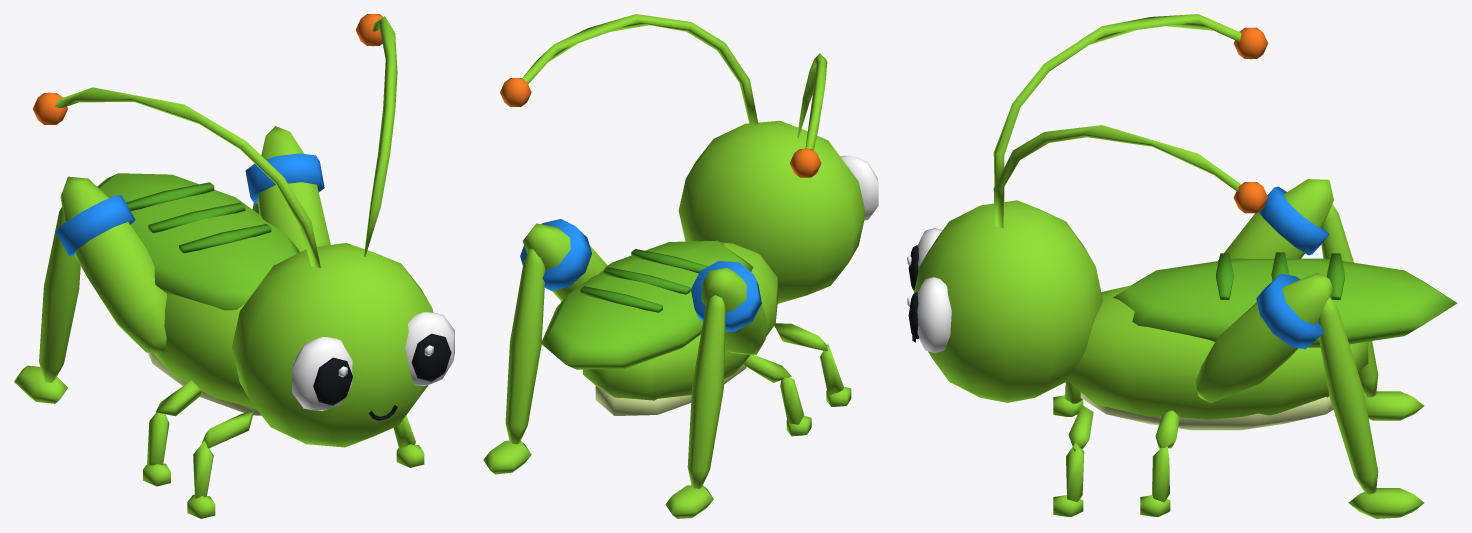
Rendered from compagnon_sauterelle.fbx.
3 views of the same model, side by side, from view 1: azimuth 30°, elevation 25°; view 2: azimuth 150°, elevation 25°; view 3: azimuth 270°, elevation 25° (orthographic). The views are drawn at different scales.
Visible parts, largest first — view 1: compagnon_sauterelle_Vert, compagnon_sauterelle_Elytres, compagnon_sauterelle_Bandeaux, compagnon_sauterelle_Yeux, compagnon_sauterelle_Rayures, compagnon_sauterelle_Pupilles, compagnon_sauterelle_Boules, compagnon_sauterelle_Ventre; view 2: compagnon_sauterelle_Vert, compagnon_sauterelle_Elytres, compagnon_sauterelle_Bandeaux, compagnon_sauterelle_Rayures, compagnon_sauterelle_Ventre, compagnon_sauterelle_Boules, compagnon_sauterelle_Yeux; view 3: compagnon_sauterelle_Vert, compagnon_sauterelle_Elytres, compagnon_sauterelle_Bandeaux, compagnon_sauterelle_Yeux, compagnon_sauterelle_Ventre, compagnon_sauterelle_Boules, compagnon_sauterelle_Rayures, compagnon_sauterelle_Pupilles.
Boxes of the visible parts, x1,y1,x2,y2 form: compagnon_sauterelle_Vert: (14,16,433,518); compagnon_sauterelle_Elytres: (97,173,299,310); compagnon_sauterelle_Bandeaux: (55,153,324,255); compagnon_sauterelle_Yeux: (292,312,454,410); compagnon_sauterelle_Rayures: (126,182,271,253); compagnon_sauterelle_Pupilles: (313,333,451,420); compagnon_sauterelle_Boules: (33,14,382,124); compagnon_sauterelle_Ventre: (148,352,261,415); compagnon_sauterelle_Vert: (483,14,865,518); compagnon_sauterelle_Elytres: (541,240,753,369); compagnon_sauterelle_Bandeaux: (520,219,761,331); compagnon_sauterelle_Rayures: (580,249,708,312); compagnon_sauterelle_Ventre: (595,364,746,415); compagnon_sauterelle_Boules: (500,78,821,177); compagnon_sauterelle_Yeux: (840,155,878,220); compagnon_sauterelle_Vert: (914,14,1424,518); compagnon_sauterelle_Elytres: (1113,258,1457,347); compagnon_sauterelle_Bandeaux: (1256,186,1329,349); compagnon_sauterelle_Yeux: (907,228,951,353); compagnon_sauterelle_Ventre: (1080,392,1333,430); compagnon_sauterelle_Boules: (1233,27,1268,213); compagnon_sauterelle_Rayures: (1216,252,1344,299); compagnon_sauterelle_Pupilles: (908,245,919,342).
Size of the model in its own units: 2.27 by 2.49 by 3.17.
